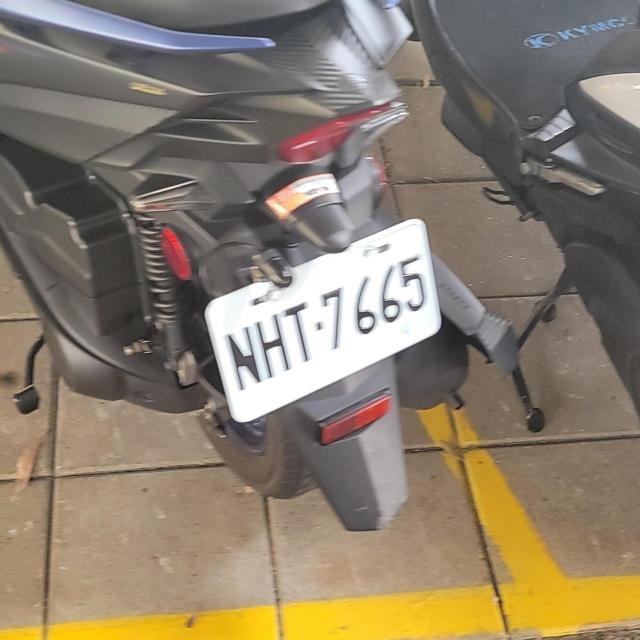W: (192, 212, 457, 428)
